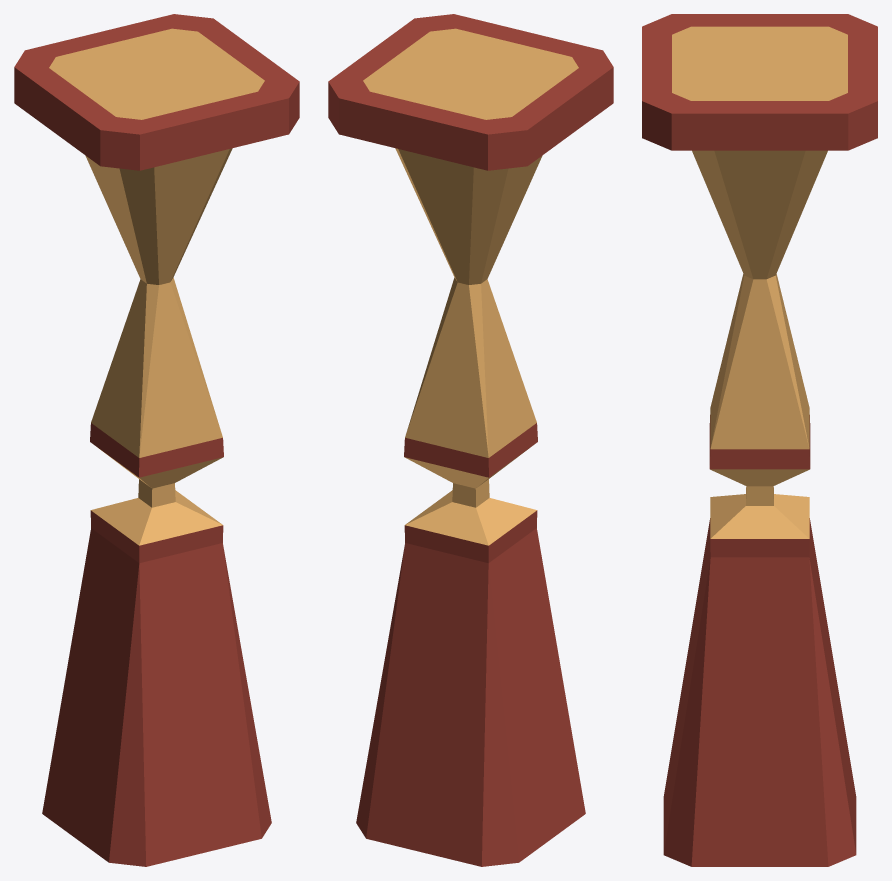
The model's file is TallPlatform.fbx.
3 views of the same model, side by side, from view 1: azimuth 30°, elevation 25°; view 2: azimuth 150°, elevation 25°; view 3: azimuth 270°, elevation 25° (orthographic). The views are drawn at different scales.
Parts seen in each view (by area): view 1: Cube; view 2: Cube; view 3: Cube.
Boxes of the visible parts, box(x1,y1,x2,y2) form: Cube: box(14, 14, 299, 866); Cube: box(328, 14, 613, 866); Cube: box(642, 14, 877, 866).
Size of the model in its own units: 589 by 2100 by 589.
